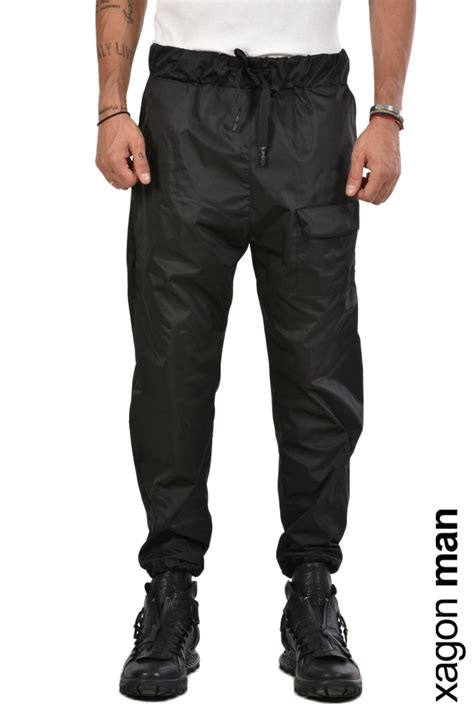nylon: (124, 44, 368, 574)
